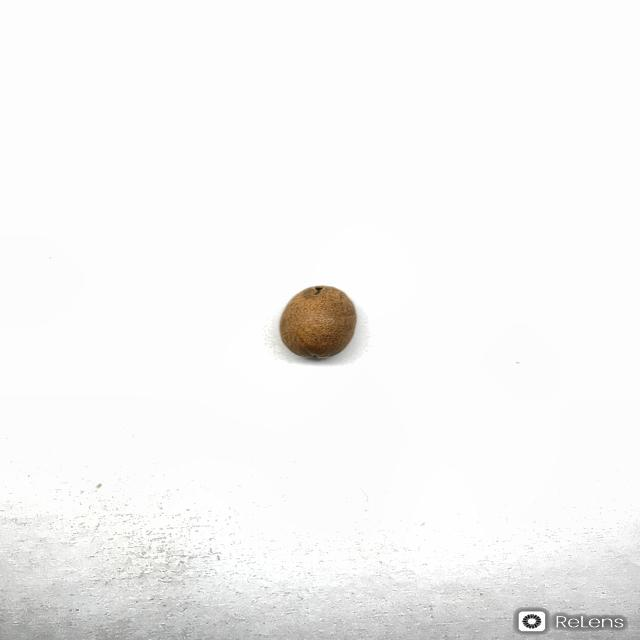Insect damage: (278, 284, 357, 359)
